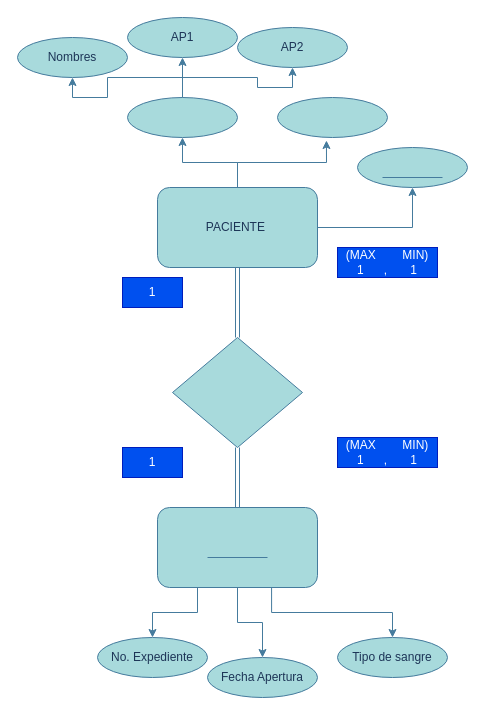
Some shapes in this 485 by 715 pixel diagram are drawn without their labels. The box of each missing label's shape, as (x1, y1, x2, y2) in pixels:
EXPEDIENTE: (156, 506, 318, 588)
Fecha Naci: (276, 96, 388, 138)
Nombre: (126, 96, 238, 138)
NumPaciente: (356, 146, 468, 188)
TIENE: (172, 336, 302, 448)
